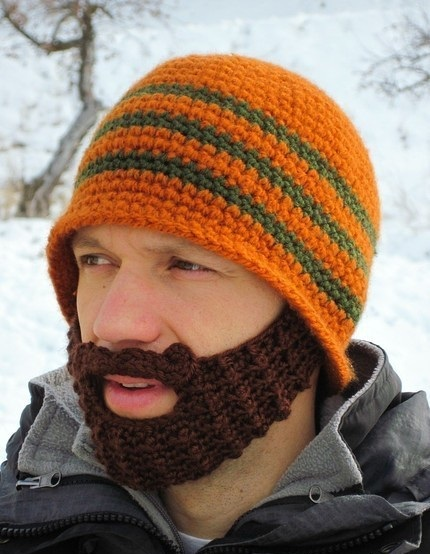face: (71, 149, 285, 463)
